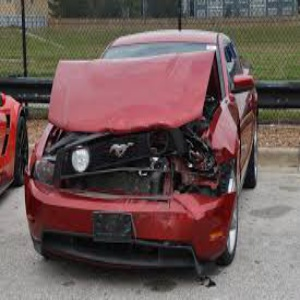bonnet: (44, 47, 220, 130)
bumper: (184, 183, 239, 263)
